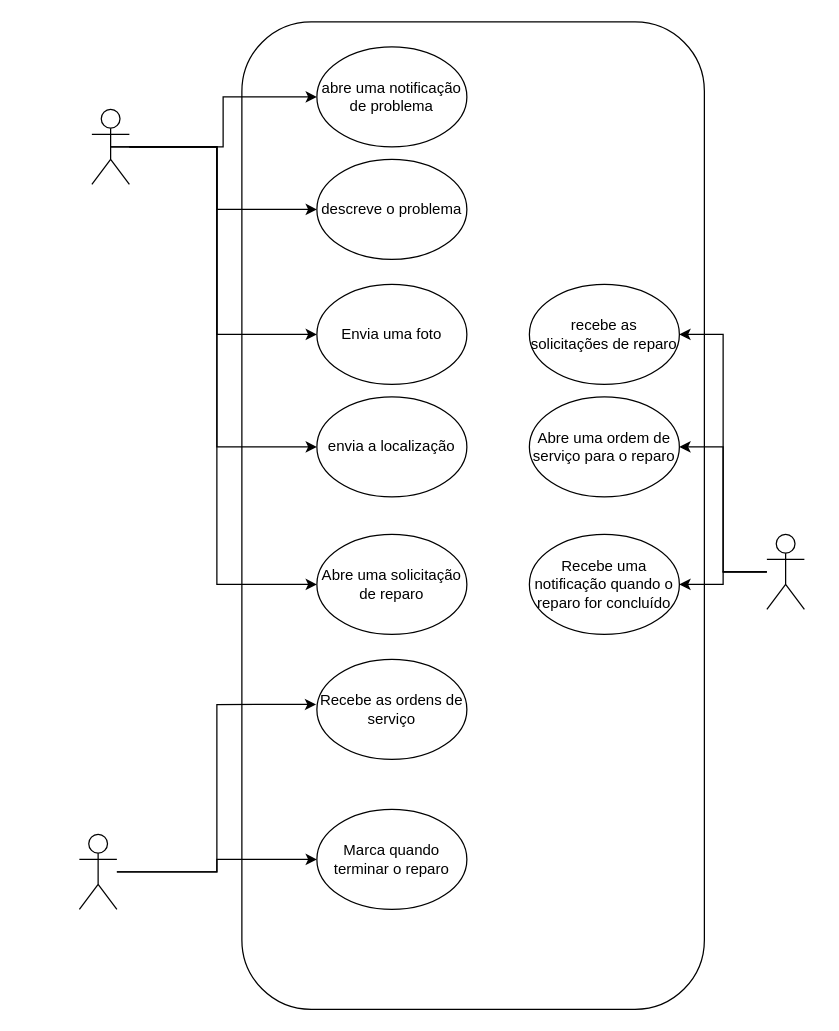
Some shapes in this 839 by 1031 pixel diagram are drawn without their labels. Here are the shapes that lost their labels. From the top down, the centre of each, then its label:
At point (110, 146): "cidadão".
At point (785, 571): "Município".
At point (97, 871): "Equipe de manutenção".
